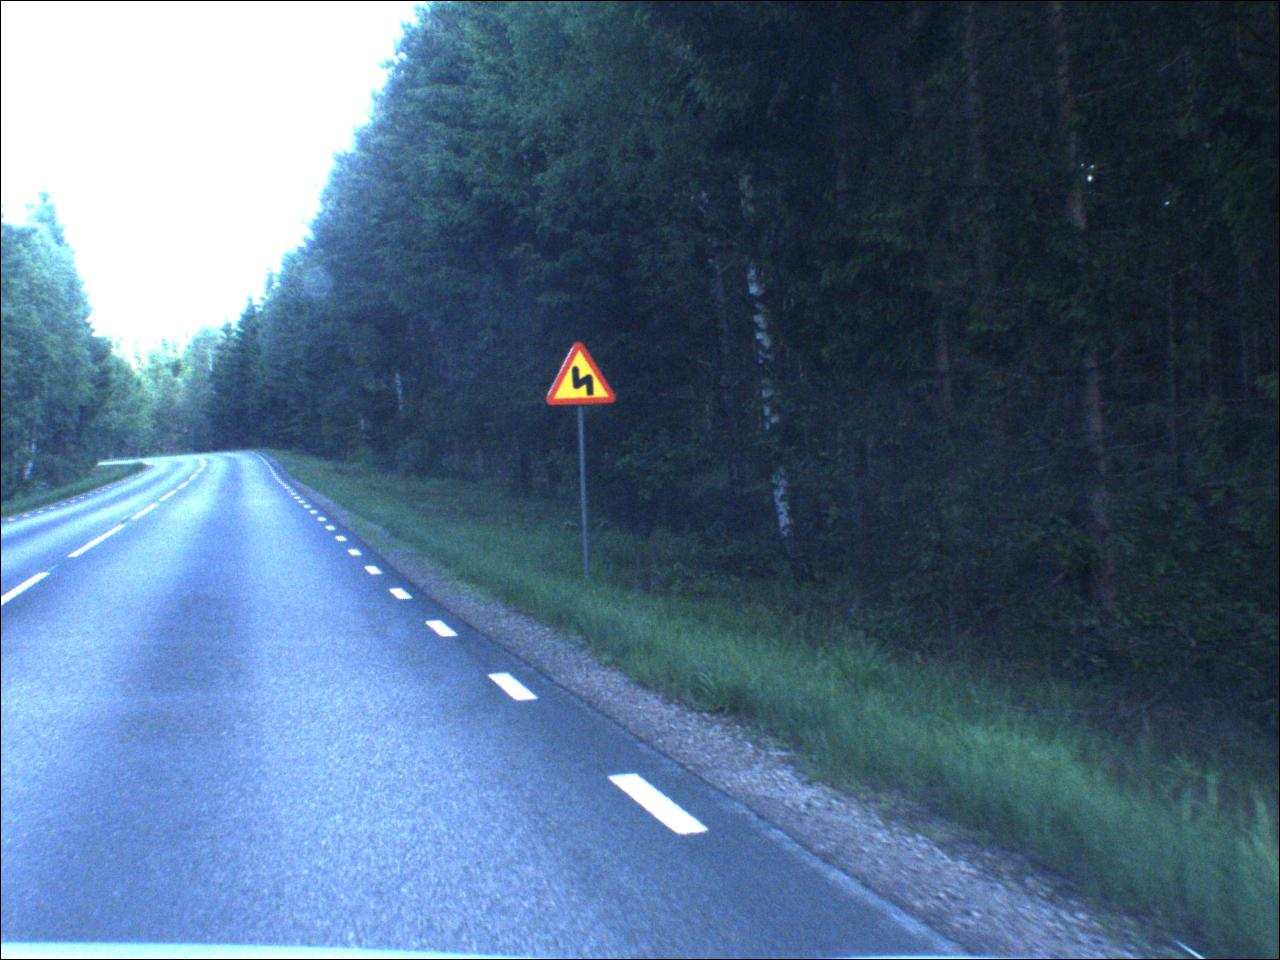WARNING_SHARP_CURVES: (549, 343, 621, 409)
